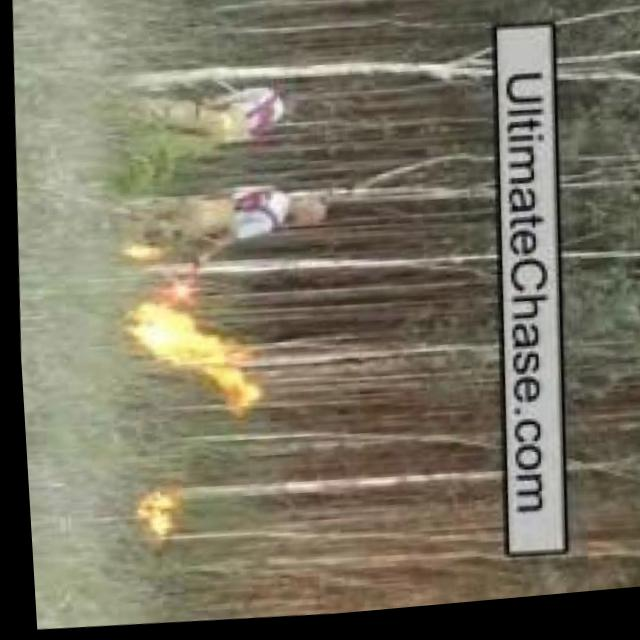Fire: (112, 291, 255, 427), (115, 480, 179, 555)
